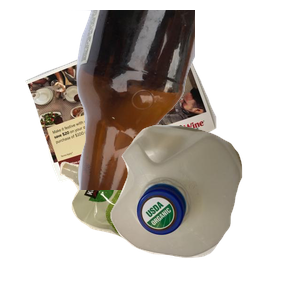glass: (60, 10, 300, 190)
paper: (23, 24, 232, 199)
plastic: (108, 123, 300, 300)
trash: (57, 137, 257, 300)
